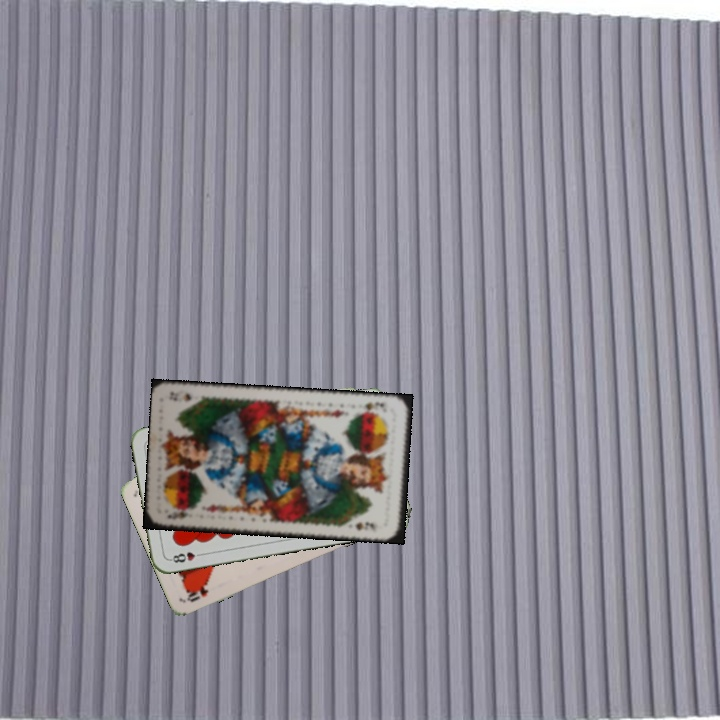H8: (166, 548, 206, 565)
HO: (182, 580, 211, 605)
SK: (354, 397, 387, 416), (164, 505, 189, 522)
